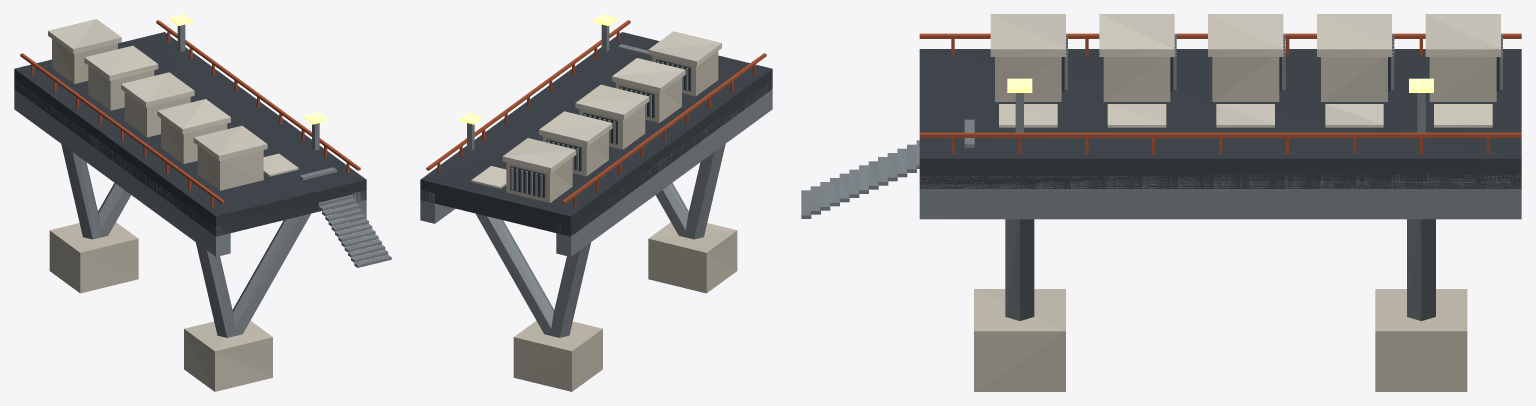
The model's file is service-gallery.glb.
3 renders of one model, left to right at view 1: azimuth 30°, elevation 25°; view 2: azimuth 150°, elevation 25°; view 3: azimuth 270°, elevation 25°, orthographic. The views are drawn at different scales.
Parts seen in each view (by area): view 1: service-gallery__graphite, service-gallery__ceramic, service-gallery__metal, service-gallery__edge, service-gallery__oxide, service-gallery__amber; view 2: service-gallery__graphite, service-gallery__ceramic, service-gallery__metal, service-gallery__edge, service-gallery__oxide, service-gallery__amber; view 3: service-gallery__graphite, service-gallery__metal, service-gallery__ceramic, service-gallery__edge, service-gallery__oxide, service-gallery__amber.
Part boxes in pixels (left/top/right/bottom): service-gallery__graphite: left=14, top=32, right=366, bottom=236; service-gallery__ceramic: left=49, top=39, right=272, bottom=391; service-gallery__metal: left=14, top=24, right=391, bottom=337; service-gallery__edge: left=48, top=19, right=298, bottom=176; service-gallery__oxide: left=20, top=20, right=360, bottom=206; service-gallery__amber: left=170, top=14, right=327, bottom=124; service-gallery__graphite: left=420, top=32, right=772, bottom=236; service-gallery__ceramic: left=506, top=51, right=737, bottom=391; service-gallery__metal: left=420, top=24, right=772, bottom=337; service-gallery__edge: left=471, top=31, right=721, bottom=188; service-gallery__oxide: left=426, top=20, right=766, bottom=206; service-gallery__amber: left=459, top=14, right=616, bottom=124; service-gallery__graphite: left=919, top=49, right=1521, bottom=188; service-gallery__metal: left=801, top=34, right=1521, bottom=320; service-gallery__ceramic: left=974, top=57, right=1496, bottom=391; service-gallery__edge: left=990, top=14, right=1500, bottom=127; service-gallery__oxide: left=919, top=33, right=1521, bottom=153; service-gallery__amber: left=1007, top=78, right=1433, bottom=92.
Size of the model in its own units: 31 by 46.25 by 86.15.
